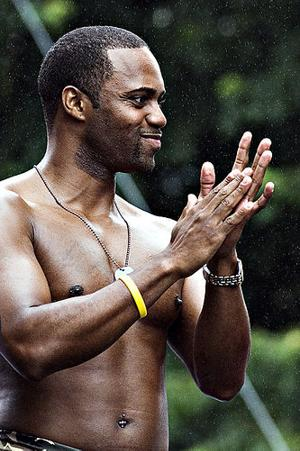person: (1, 26, 275, 451)
